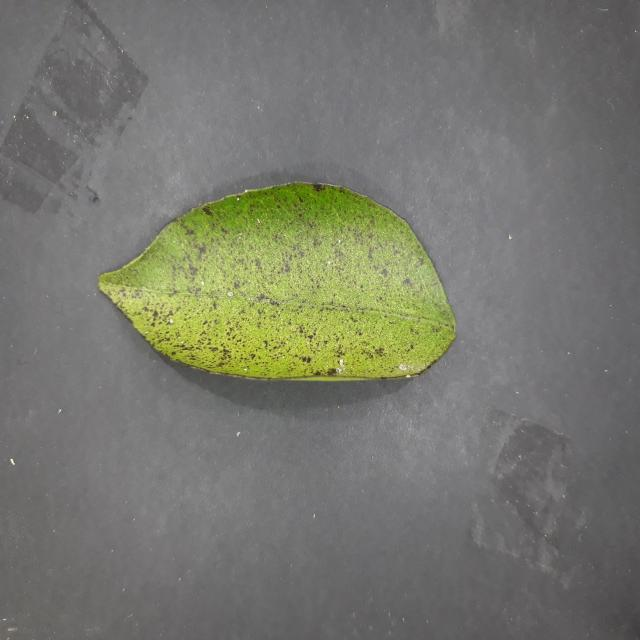greasy_spot: (99, 183, 455, 380)
